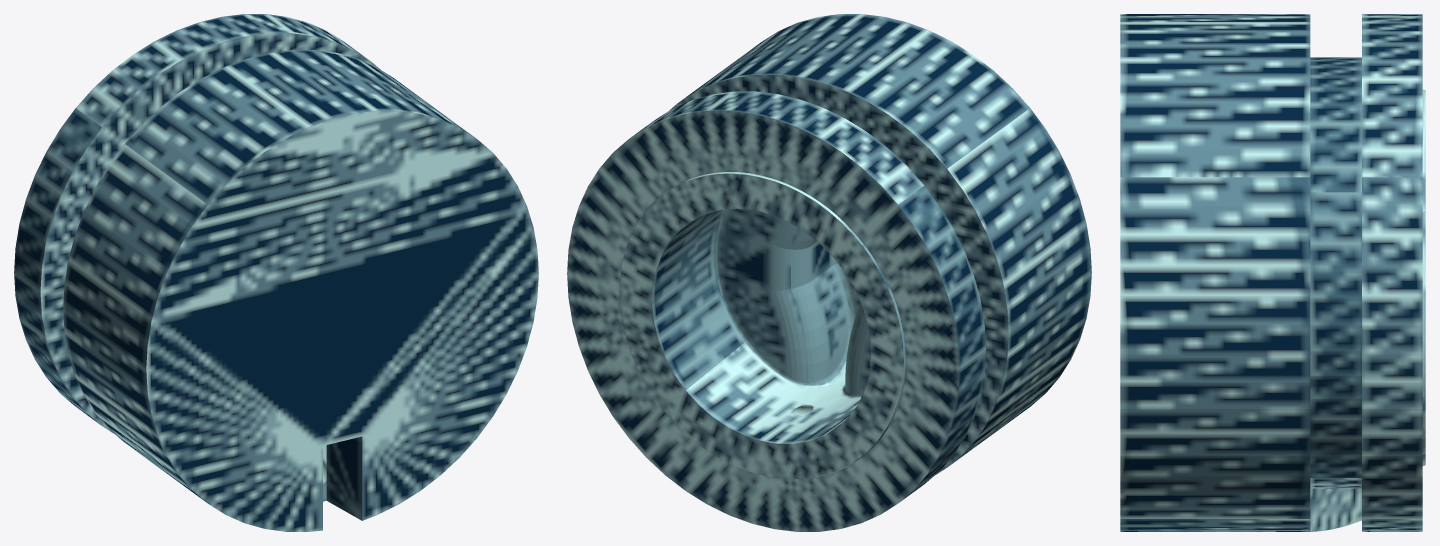
File: Mold4-Cavity-M.glb
3 views of the same model, side by side, from view 1: azimuth 30°, elevation 25°; view 2: azimuth 150°, elevation 25°; view 3: azimuth 270°, elevation 25° (orthographic). The views are drawn at different scales.
Visible parts, largest first — view 1: GERGTGQ - EMPRITE FINIE-1 Copie de hel foued-.SLDPRTIYIYI-2; view 2: GERGTGQ - EMPRITE FINIE-1 Copie de hel foued-.SLDPRTIYIYI-2; view 3: GERGTGQ - EMPRITE FINIE-1 Copie de hel foued-.SLDPRTIYIYI-2.
Boxes of the visible parts, box(x1,y1,x2,y2) form: GERGTGQ - EMPRITE FINIE-1 Copie de hel foued-.SLDPRTIYIYI-2: box(14, 14, 538, 531); GERGTGQ - EMPRITE FINIE-1 Copie de hel foued-.SLDPRTIYIYI-2: box(567, 14, 1091, 531); GERGTGQ - EMPRITE FINIE-1 Copie de hel foued-.SLDPRTIYIYI-2: box(1120, 14, 1425, 531).
Bounding box in the file's own units: 2.14 × 2.13 × 1.26.
Materials: 1 (1 with a texture image).
